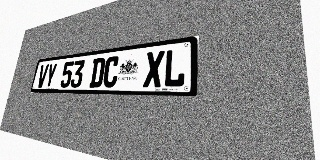3: (70, 60, 85, 88)
5: (60, 61, 74, 88)
C: (102, 56, 120, 87)
D: (89, 57, 106, 87)
L: (163, 48, 187, 87)
V: (36, 64, 49, 88)
X: (143, 50, 165, 87)
Y: (44, 63, 58, 88)
